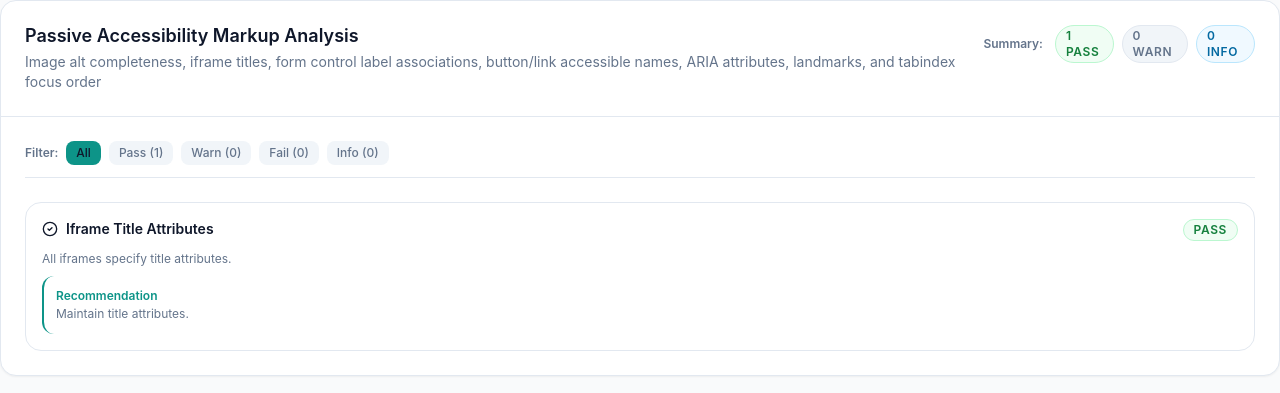
Test case: AccessibilityCard Component Suite (M6) › renders empty state message when no findings match selected filter tab
Click the button "warn (0)" at (216, 152), box [181, 140, 251, 164]
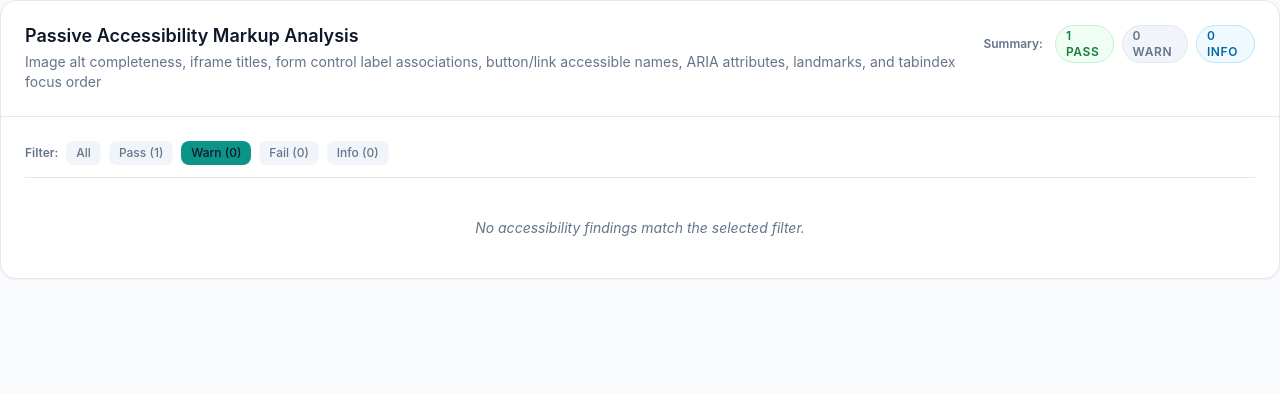
Expected: the text "No accessibility findings match the selected filter." is shown, [475, 218, 805, 236]
